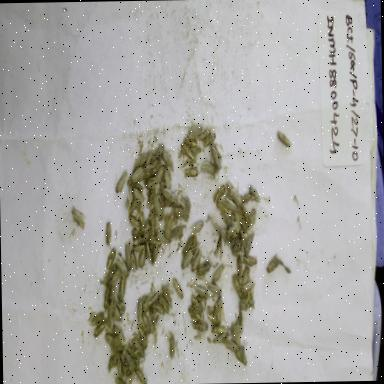pbw: (68, 208, 86, 234), (102, 216, 115, 250), (276, 128, 294, 152), (128, 166, 146, 189), (178, 232, 194, 257), (113, 168, 128, 194), (236, 200, 248, 232), (142, 288, 158, 312), (128, 243, 140, 274), (156, 290, 170, 316), (236, 344, 249, 372), (265, 254, 280, 278), (184, 120, 204, 138), (156, 226, 172, 248), (247, 180, 263, 202), (207, 214, 222, 237), (222, 335, 240, 354), (153, 193, 164, 223), (212, 145, 224, 172), (216, 296, 226, 328), (191, 280, 207, 300), (124, 241, 134, 273), (145, 154, 161, 174), (138, 323, 149, 352), (179, 143, 194, 164), (232, 230, 245, 254), (124, 349, 136, 375), (227, 216, 240, 240), (104, 248, 116, 274), (180, 250, 194, 272), (240, 204, 254, 226), (169, 224, 186, 242), (201, 132, 218, 150), (89, 310, 104, 330), (212, 262, 225, 285), (214, 234, 225, 261), (212, 183, 226, 204), (200, 162, 216, 180), (172, 276, 184, 300), (117, 254, 130, 276), (244, 234, 255, 260), (162, 216, 175, 238), (168, 332, 178, 360), (102, 282, 112, 310), (178, 193, 192, 213), (106, 305, 116, 333), (228, 184, 242, 204), (230, 318, 244, 338), (214, 197, 228, 217), (196, 262, 213, 278), (107, 338, 122, 356), (176, 206, 190, 225), (94, 319, 108, 338), (162, 150, 174, 172), (107, 272, 120, 292), (213, 330, 229, 346), (242, 254, 258, 270), (232, 278, 243, 301), (184, 134, 198, 152), (191, 320, 209, 334), (134, 340, 146, 361), (162, 168, 173, 190), (188, 307, 204, 322), (236, 254, 244, 284), (128, 212, 140, 232), (146, 237, 154, 266), (138, 208, 146, 237), (232, 329, 243, 350), (112, 325, 124, 344), (162, 188, 176, 204), (242, 279, 256, 295), (152, 144, 166, 160), (150, 302, 164, 318), (134, 367, 148, 383), (192, 254, 202, 276), (163, 284, 173, 306), (241, 262, 250, 286), (114, 308, 126, 326), (199, 126, 211, 144), (143, 315, 152, 339), (207, 282, 221, 297), (128, 199, 142, 214), (145, 176, 159, 191), (248, 207, 257, 230), (151, 245, 160, 268), (132, 188, 144, 205), (192, 220, 204, 237), (190, 248, 200, 268), (146, 192, 156, 212), (108, 354, 118, 374), (132, 154, 146, 168), (116, 356, 124, 380), (135, 298, 143, 322), (138, 248, 146, 270), (182, 167, 198, 178), (116, 300, 127, 316), (220, 197, 231, 213), (106, 332, 116, 349), (189, 296, 201, 310), (134, 234, 148, 246), (212, 326, 226, 338), (121, 278, 129, 298), (148, 214, 156, 234), (118, 278, 124, 304), (206, 305, 217, 315), (246, 290, 252, 306), (214, 306, 219, 324), (206, 312, 214, 322), (213, 305, 216, 325)
